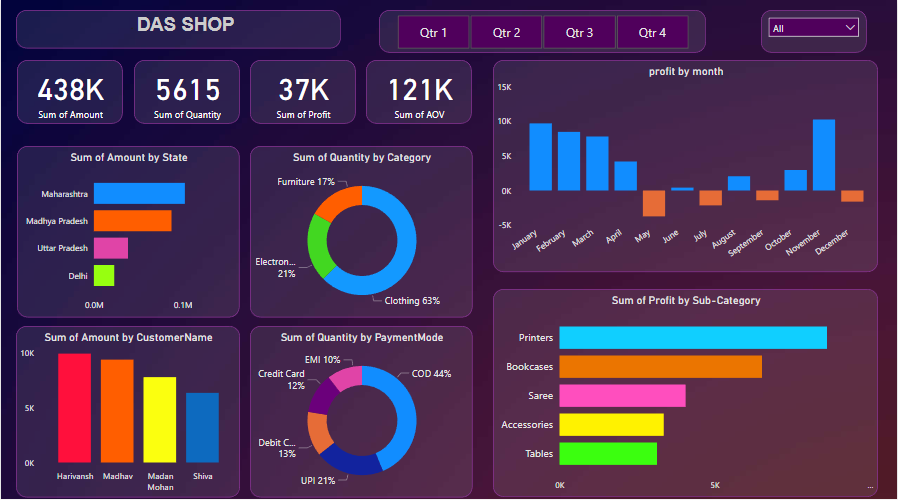

This screenshot's page, from the dashboard's own definition file:
{"tool":"powerbi","page":{"name":"Page 1","canvas":[1280,720],"ordinal":0},"visuals":[{"type":"textbox","box":[21.2,14.1,464,55.2],"z":0},{"type":"columnChart","title":"profit by month","fields":{"Category":["Orders.Order Date.Variation.Date Hierarchy.Month"],"Y":["Details.Profit"]},"box":[703,86.3,550.3,302.7],"z":1},{"type":"barChart","fields":{"Category":["Details.Sub-Category"],"Y":["Details.Profit"]},"box":[703,413,550.3,297.1],"z":2},{"type":"donutChart","fields":{"Category":["Details.Category"],"Y":["Details.Quantity"]},"box":[355,207.9,318.3,244.7],"z":3},{"type":"donutChart","fields":{"Y":["Details.Quantity"],"Category":["Details.PaymentMode"]},"box":[355,465.4,318.3,244.7],"z":4},{"type":"card","fields":{"Values":["Details.Amount"]},"box":[22.6,86.3,151.4,90.5],"z":5},{"type":"card","fields":{"Values":["Details.Quantity"]},"box":[189.5,86.3,151.4,90.5],"z":6},{"type":"card","fields":{"Values":["Details.Profit"]},"box":[355,86.3,151.4,90.5],"z":7},{"type":"card","fields":{"Values":["Details.AOV"]},"box":[522,86.3,151.4,90.5],"z":8},{"type":"barChart","fields":{"Category":["Orders.State"],"Y":["Details.Amount"]},"box":[22.6,207.9,318.3,244.7],"z":9},{"type":"columnChart","fields":{"Category":["Orders.CustomerName"],"Y":["Details.Amount"]},"box":[21.2,465.4,319.7,244.7],"z":10},{"type":"slicer","fields":{"Values":["Orders.Order Date.Variation.Date Hierarchy.Quarter"]},"box":[540.4,14.1,466.8,60.8],"z":11},{"type":"slicer","fields":{"Values":["Orders.State"]},"box":[1086.4,14.1,151.4,60.8],"z":12}]}

Visuals, with their boxes in screenshot pixels (x1, y1, x2, y2), scaled from the page's 1280x720 canvas onto the 898x500 screenshot:
textbox: region(15, 10, 340, 48)
"profit by month" columnChart: region(493, 60, 879, 270)
barChart - Details.Sub-Category x Details.Profit: region(493, 287, 879, 493)
donutChart - Details.Category x Details.Quantity: region(249, 144, 472, 314)
donutChart - Details.Quantity x Details.PaymentMode: region(249, 323, 472, 493)
card - Details.Amount: region(16, 60, 122, 123)
card - Details.Quantity: region(133, 60, 239, 123)
card - Details.Profit: region(249, 60, 355, 123)
card - Details.AOV: region(366, 60, 472, 123)
barChart - Orders.State x Details.Amount: region(16, 144, 239, 314)
columnChart - Orders.CustomerName x Details.Amount: region(15, 323, 239, 493)
slicer - Orders.Order Date.Variation.Date Hierarchy.Quarter: region(379, 10, 707, 52)
slicer - Orders.State: region(762, 10, 868, 52)
